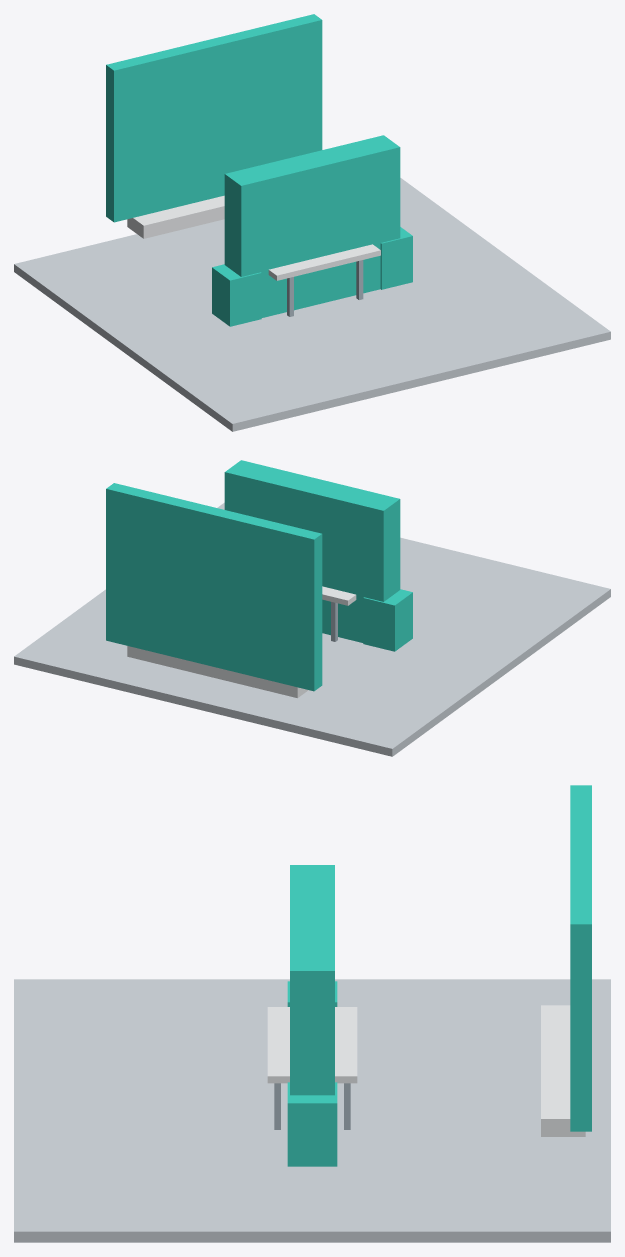
3 renders of one model, top to bottom at view 1: azimuth 30°, elevation 25°; view 2: azimuth 150°, elevation 25°; view 3: azimuth 270°, elevation 25°, orthographic. The views are drawn at different scales.
Visible parts, largest first — view 1: Exhibition Booth Concept; view 2: Exhibition Booth Concept; view 3: Exhibition Booth Concept.
Boxes of the visible parts, left/top/right/bottom form: Exhibition Booth Concept: left=14, top=14, right=610, bottom=431; Exhibition Booth Concept: left=14, top=460, right=610, bottom=756; Exhibition Booth Concept: left=14, top=785, right=610, bottom=1242.
Bounding box in the file's own units: 6 × 2.9 × 6.
